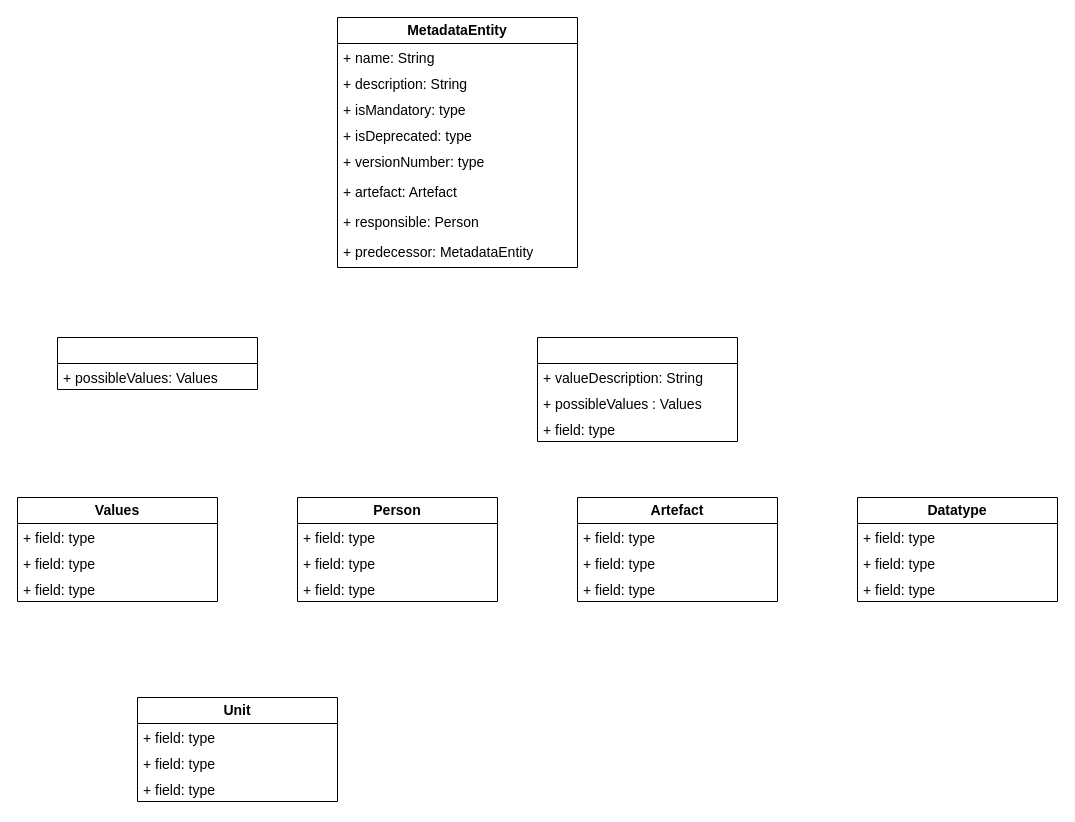
The diagram is 1075 pixels wide and 822 high, and some of its shapes have lost their labels. Each missing label, with the box of its shape:
AttributeEntity: (536, 336, 738, 442)
EnumEntity: (56, 336, 258, 390)
